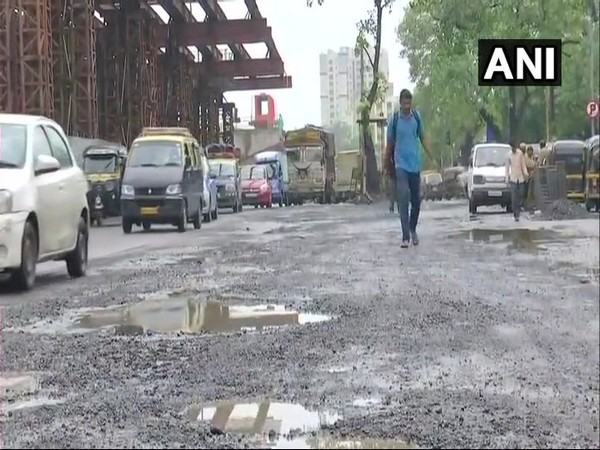pothole: (12, 272, 317, 349), (172, 383, 332, 439)
